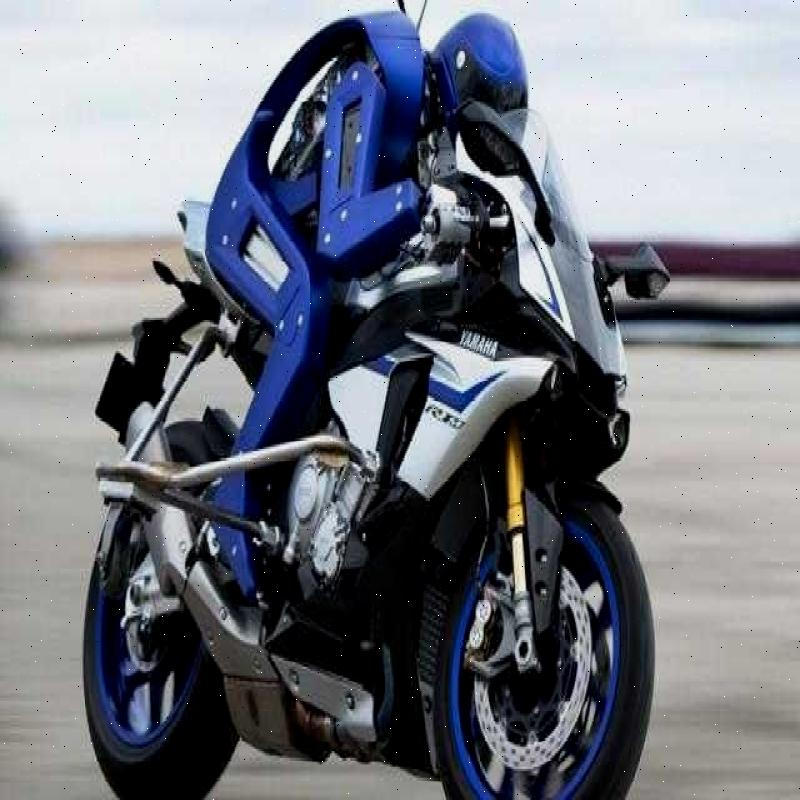bike: (71, 79, 664, 785)
